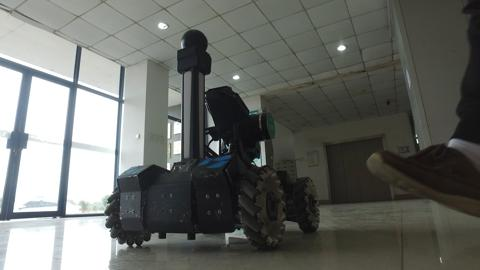chariot: (94, 25, 327, 251)
